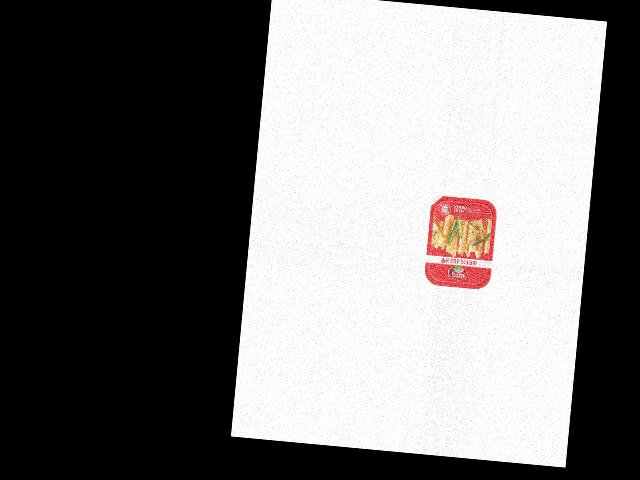cheese: (424, 194, 498, 290)
